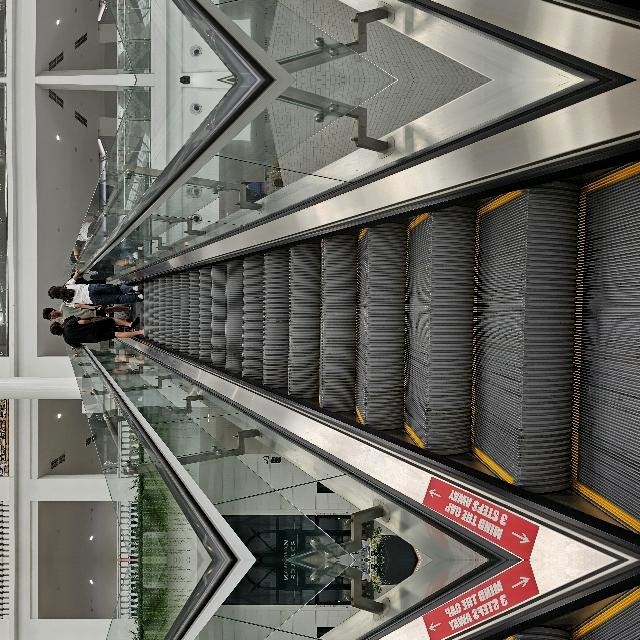person: (250, 128, 290, 224), (211, 130, 245, 225), (236, 123, 259, 213), (250, 0, 290, 32), (211, 0, 245, 30), (235, 0, 258, 37)
stair: (26, 237, 454, 640), (26, 401, 454, 640)
